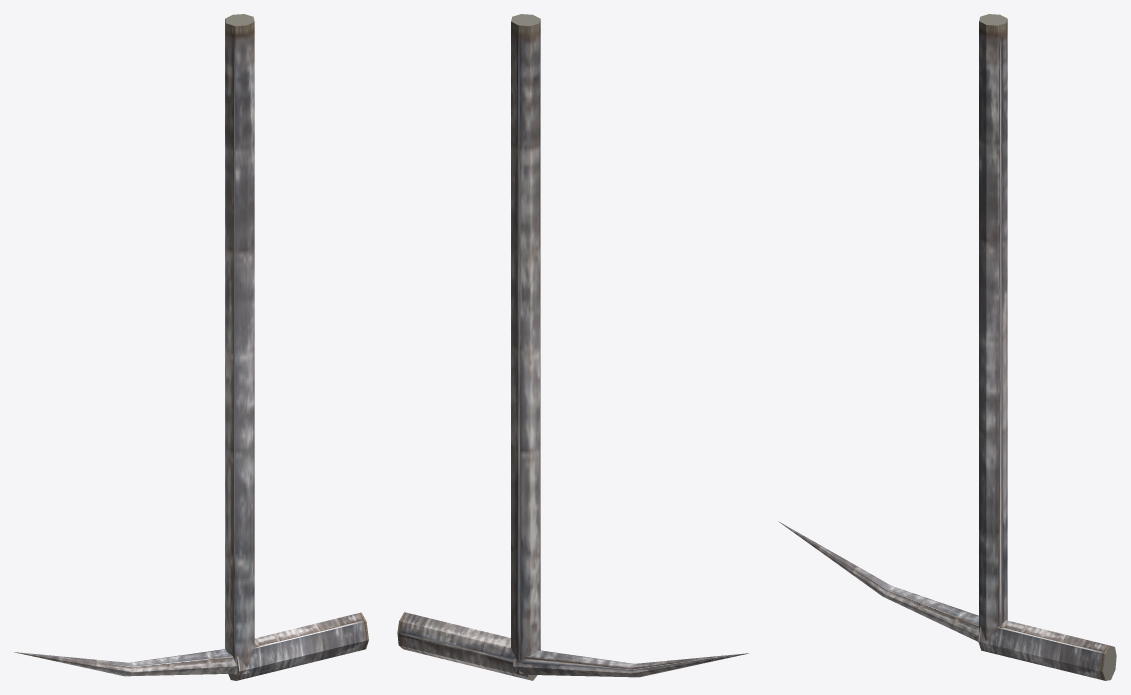
File: pickaxe128_wtf.obj
3 views of the same model, side by side, from view 1: azimuth 30°, elevation 25°; view 2: azimuth 150°, elevation 25°; view 3: azimuth 330°, elevation 25° (orthographic). The views are drawn at different scales.
Visible parts, largest first — view 1: group6, group5, group4; view 2: group6, group5, group4; view 3: group6, group5, group4.
Part boxes in pixels (bbox=[...]): group6: bbox=[225, 14, 254, 674]; group5: bbox=[228, 612, 368, 680]; group4: bbox=[14, 649, 237, 676]; group6: bbox=[511, 14, 540, 673]; group5: bbox=[397, 612, 537, 680]; group4: bbox=[513, 650, 748, 677]; group6: bbox=[979, 14, 1007, 647]; group5: bbox=[978, 620, 1116, 680]; group4: bbox=[778, 521, 979, 641].
Bounding box in the file's own units: 363 × 660 × 28.6.
